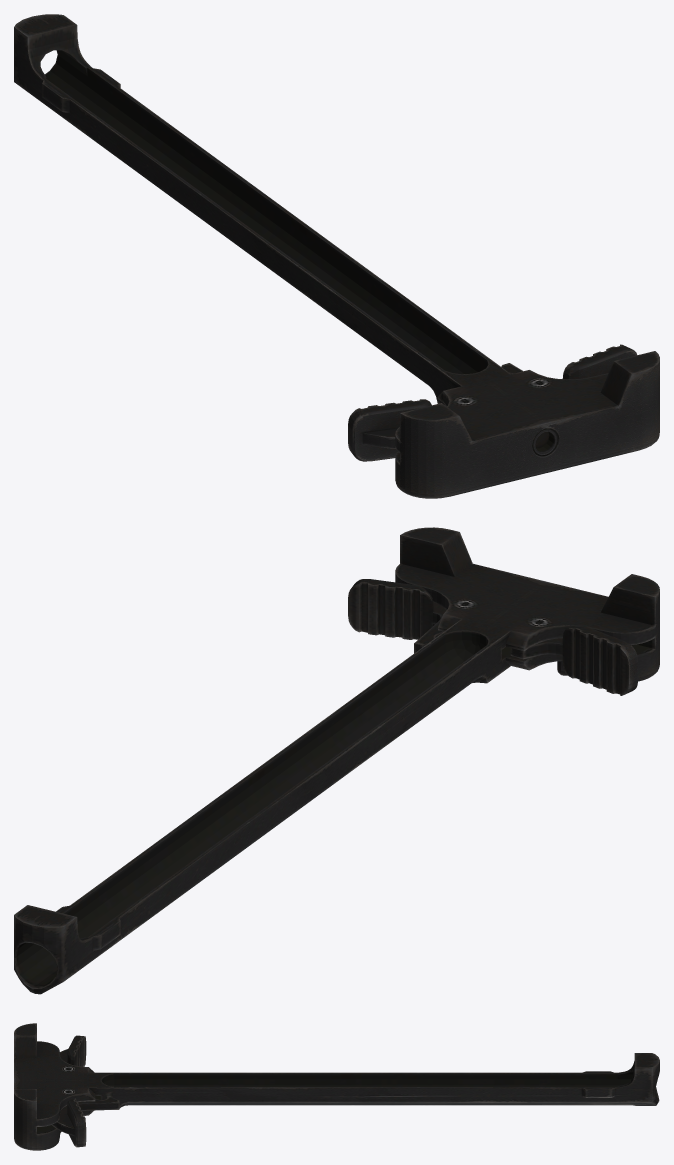
The picture shows the model from 3 angles, top to bottom: view 1: azimuth 30°, elevation 25°; view 2: azimuth 150°, elevation 25°; view 3: azimuth 270°, elevation 25°; orthographic projection. The views are drawn at different scales.
Visible parts, largest first — view 1: TW_5df8e085bb49d91fb446d6a8_PZ_Import; view 2: TW_5df8e085bb49d91fb446d6a8_PZ_Import; view 3: TW_5df8e085bb49d91fb446d6a8_PZ_Import.
Boxes of the visible parts, box(x1,y1,x2,y2) form: TW_5df8e085bb49d91fb446d6a8_PZ_Import: box(14, 14, 659, 498); TW_5df8e085bb49d91fb446d6a8_PZ_Import: box(14, 527, 659, 994); TW_5df8e085bb49d91fb446d6a8_PZ_Import: box(14, 1023, 659, 1150).
Bounding box in the file's own units: 0.0386 × 0.12 × 0.0107.
Materials: 1 (1 with a texture image).
